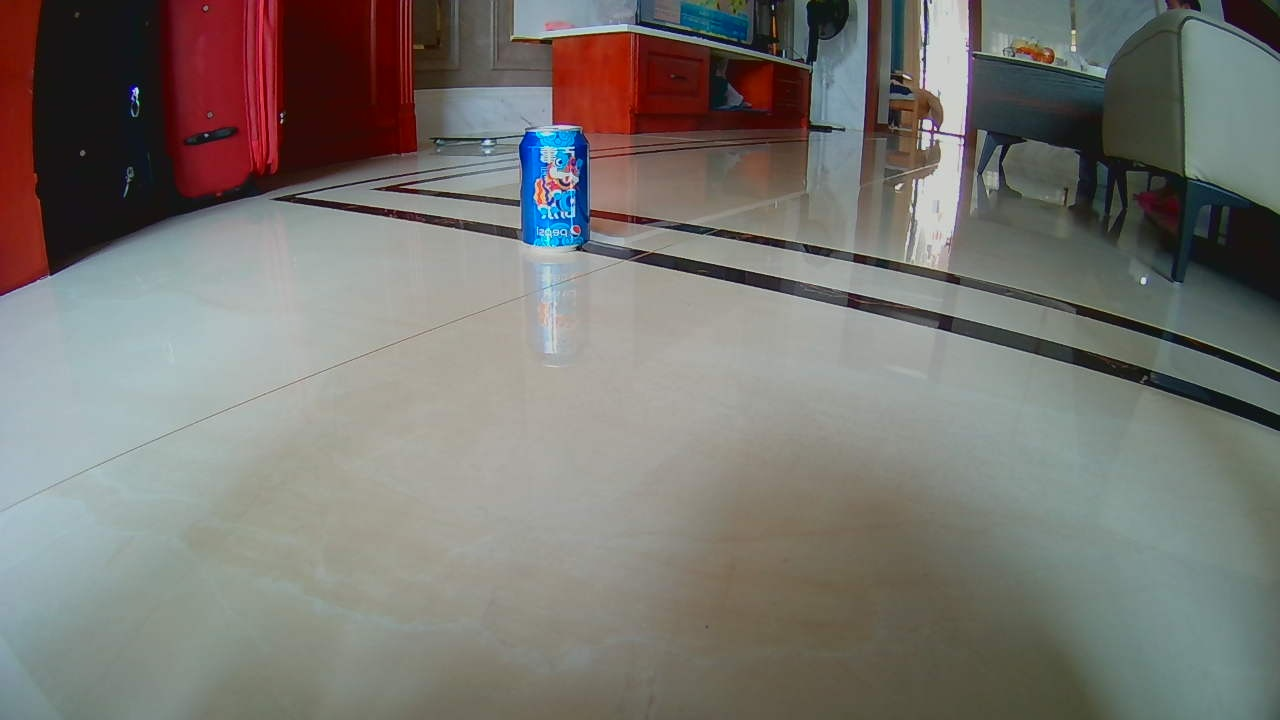pessi: (520, 128, 589, 251)
